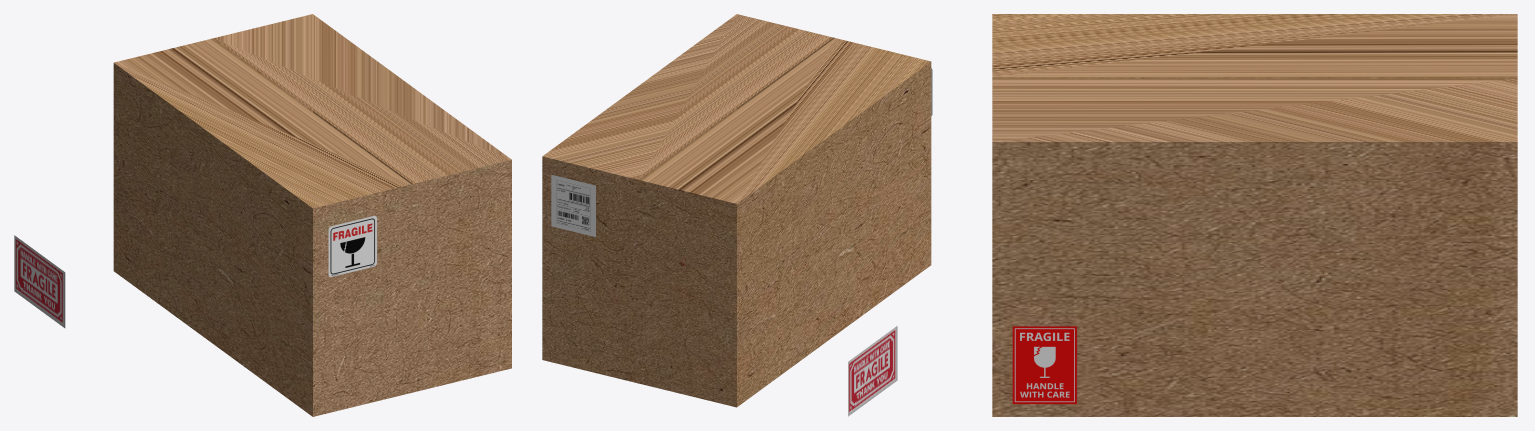
Rendered from Closed Cardboard Box.glb.
3 renders of one model, left to right at view 1: azimuth 30°, elevation 25°; view 2: azimuth 150°, elevation 25°; view 3: azimuth 270°, elevation 25°, orthographic. The views are drawn at different scales.
Visible parts, largest first — view 1: Cardboard Box, Fragile Thank You, Glass Fragile Sticker; view 2: Cardboard Box, Fragile Thank You, Address Sticker.001; view 3: Cardboard Box, Fragile Handle with Care.001.
Boxes of the visible parts, box(x1,y1,x2,y2) form: Cardboard Box: box(113, 14, 511, 416); Fragile Thank You: box(14, 235, 65, 328); Glass Fragile Sticker: box(328, 215, 376, 276); Cardboard Box: box(542, 14, 931, 407); Fragile Thank You: box(848, 326, 897, 416); Address Sticker.001: box(551, 174, 595, 236); Cardboard Box: box(992, 14, 1517, 416); Fragile Handle with Care.001: box(1012, 326, 1076, 403).
Size of the model in its own units: 3.06 by 1.98 by 3.6.
5 materials, 5 textured.
